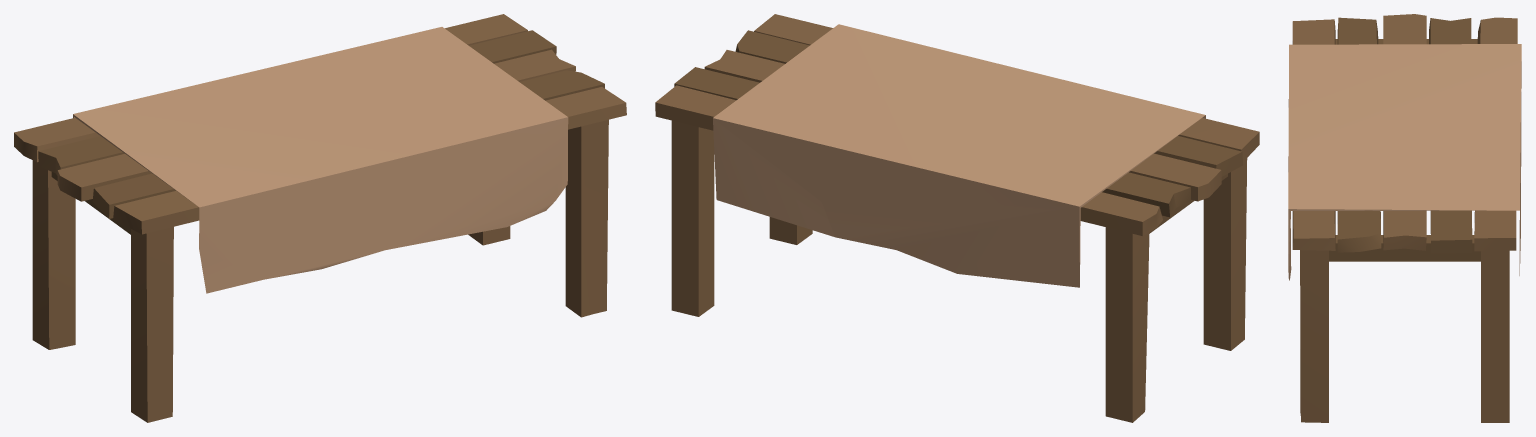
Rendered from Table_01.fbx.
3 renders of one model, left to right at view 1: azimuth 30°, elevation 25°; view 2: azimuth 150°, elevation 25°; view 3: azimuth 270°, elevation 25°, orthographic. The views are drawn at different scales.
Parts seen in each view (by area): view 1: Table_01; view 2: Table_01; view 3: Table_01.
Boxes of the visible parts, left/top/right/bottom form: Table_01: left=14, top=14, right=626, bottom=422; Table_01: left=655, top=14, right=1259, bottom=422; Table_01: left=1288, top=14, right=1521, bottom=422.
Size of the model in its own units: 186 by 73.63 by 80.73.
